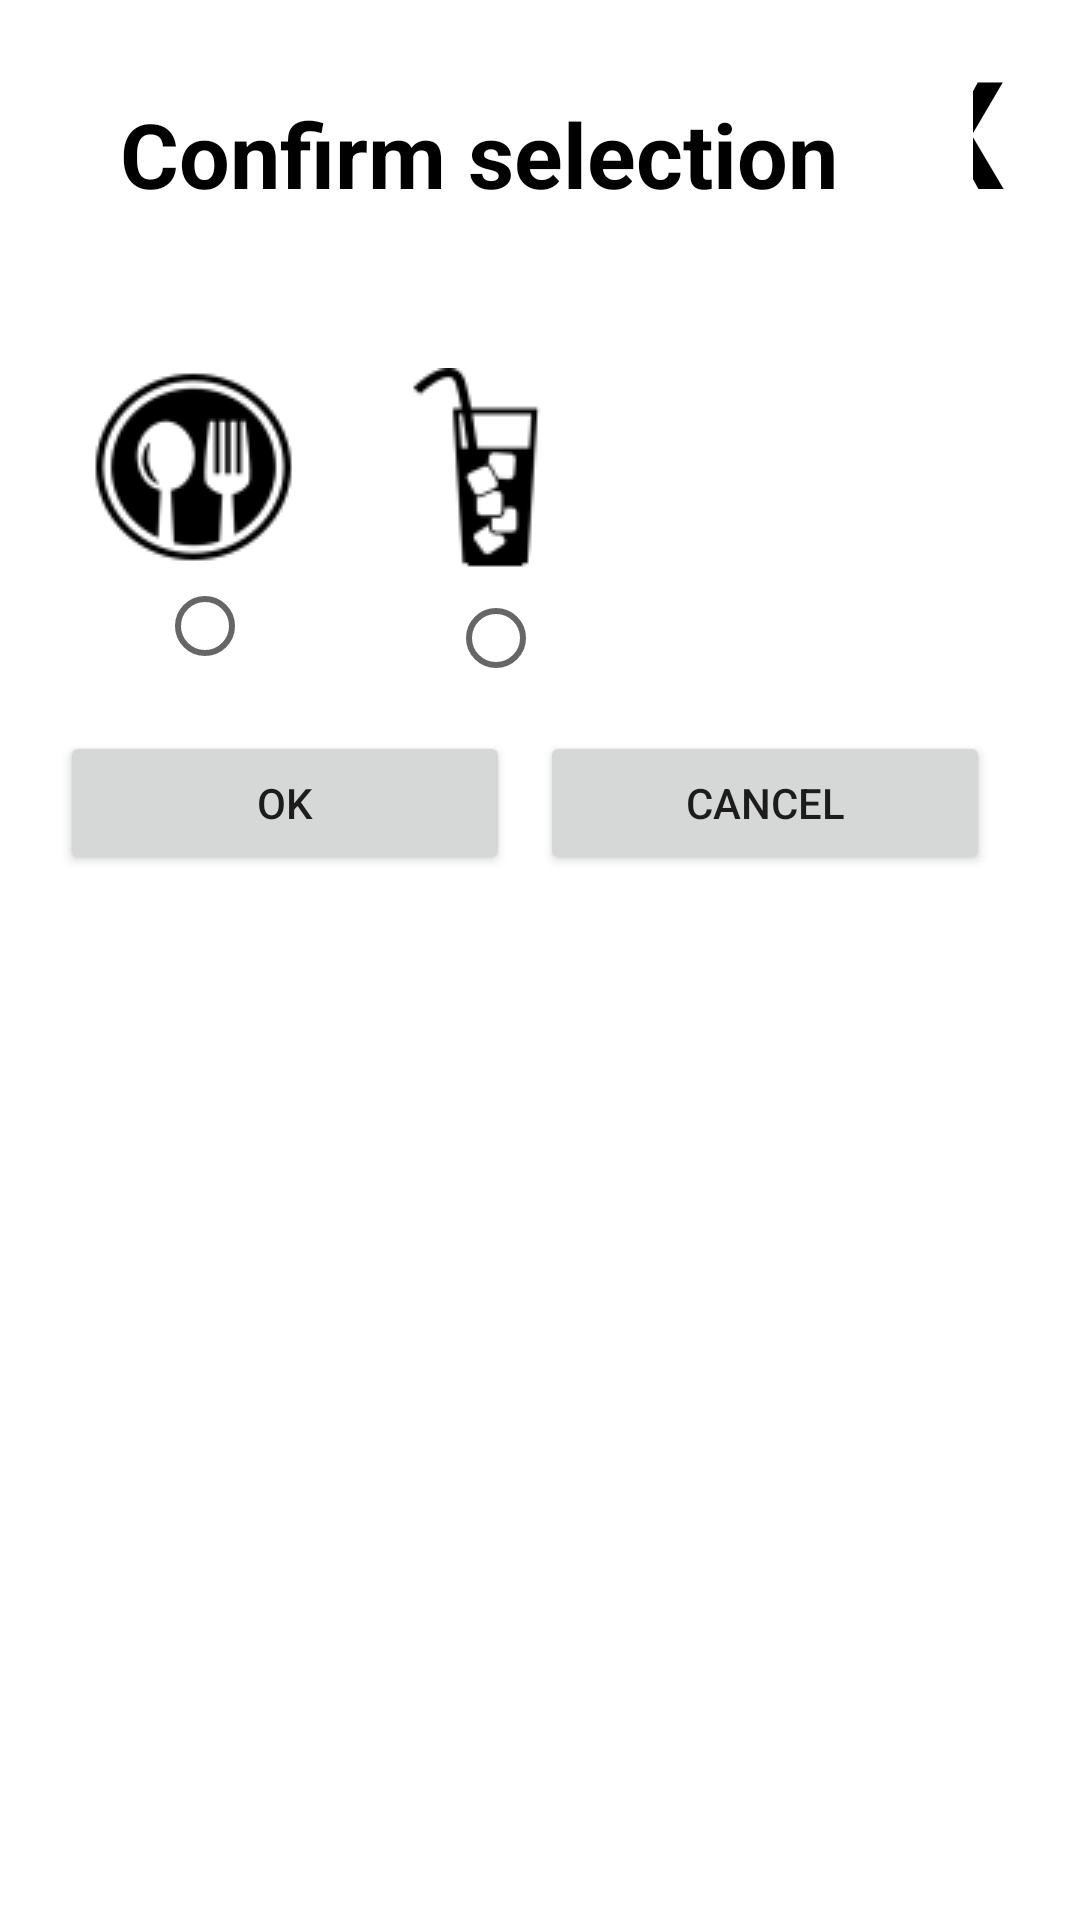

Icons on this 1080w x 1920h Android screen, each with the point to tap as point (x, y):
drink: point (476, 467)
food: point (193, 467)
